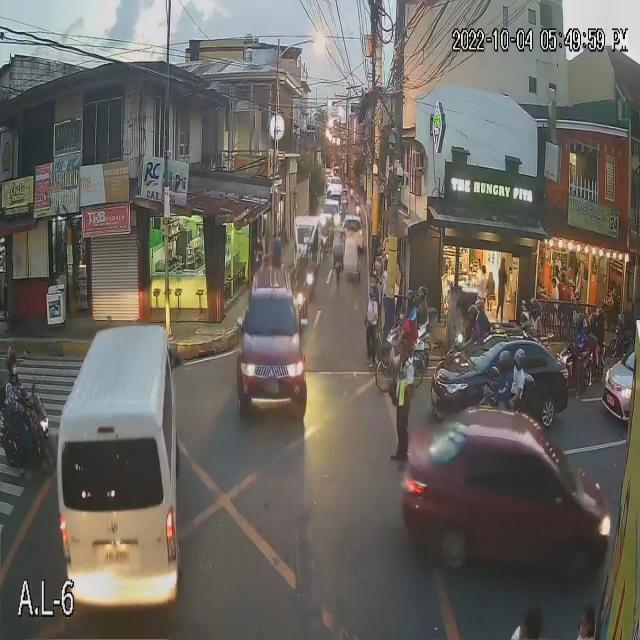helmet: (1, 344, 26, 379), (463, 302, 484, 327), (472, 288, 492, 311), (514, 348, 529, 374), (495, 350, 511, 374), (414, 286, 433, 306), (573, 312, 588, 331), (406, 288, 416, 310), (595, 306, 608, 322)
motorcycle: (0, 393, 58, 472), (551, 345, 607, 395)
rider: (4, 341, 30, 435), (492, 348, 516, 414), (508, 343, 532, 403), (568, 310, 589, 375), (590, 301, 612, 355), (474, 289, 493, 339), (462, 302, 481, 350), (404, 287, 419, 339), (416, 281, 428, 331)
